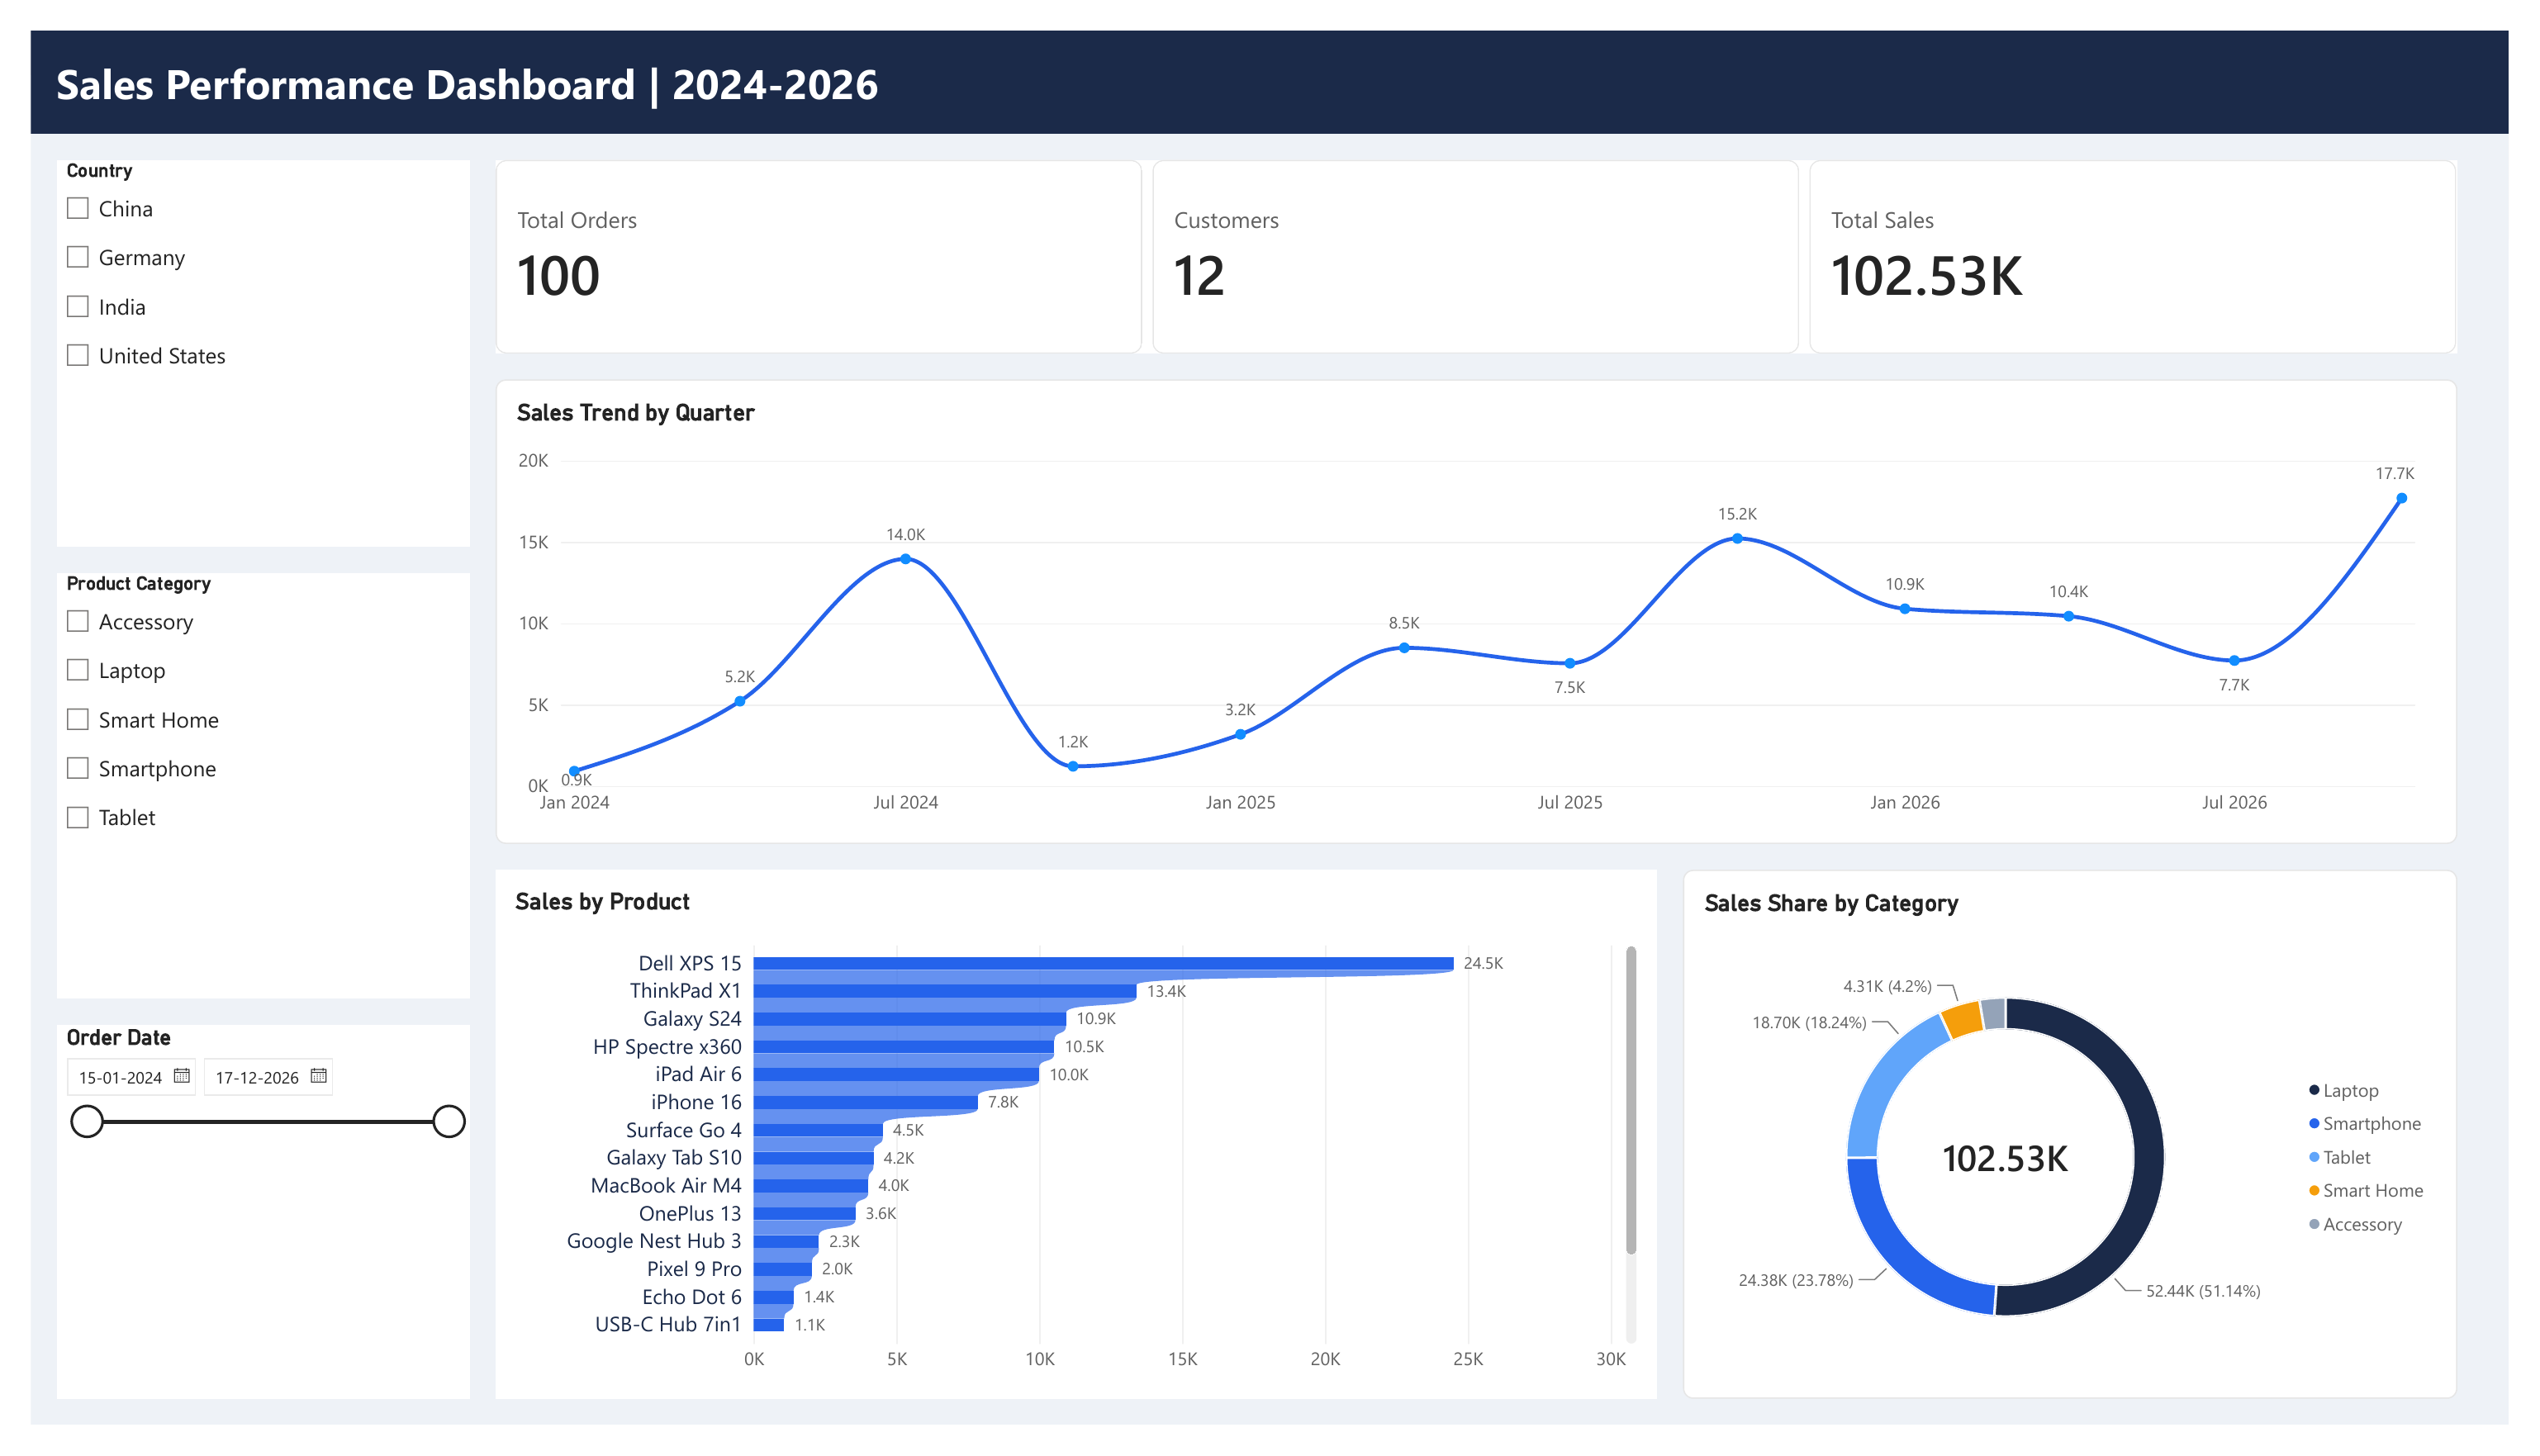

What the dashboard file says about the page in this screenshot:
{"tool":"powerbi","page":{"name":"Page 1","canvas":[1920,1080],"ordinal":0},"visuals":[{"type":"barChart","title":"Sales by Product","fields":{"Category":["orders.product_name"],"Y":["Sum(orders.sales)"]},"box":[360,650,900,410],"z":0},{"type":"textbox","box":[0,0,1920,80],"z":1},{"type":"cardVisual","fields":{"Data":["CountNonNull(orders.order_id)","Count(orders.customer_id)","Sum(orders.sales)"]},"box":[360,100,1520,150],"z":2},{"type":"lineChart","title":"Sales Trend by Quarter","fields":{"Category":["orders.order_date.Variation.Date Hierarchy.Year","orders.order_date.Variation.Date Hierarchy.Quarter","orders.order_date.Variation.Date Hierarchy.Month"],"Y":["Sum(orders.sales)"]},"box":[360,270,1520,360],"z":3},{"type":"donutChart","title":"Sales Share by Category","fields":{"Category":["orders.product_category"],"Y":["Sum(orders.sales)"]},"box":[1280,650,600,410],"z":4},{"type":"slicer","fields":{"Values":["customers.country"]},"box":[20,100,320,300],"z":5},{"type":"slicer","fields":{"Values":["orders.order_date"]},"box":[20,770,320,290],"z":6},{"type":"slicer","fields":{"Values":["orders.product_category"]},"box":[20,420,320,330],"z":7}]}

Visuals, with their boxes on the page's 1920x1080 design canvas (x1, y1, x2, y2). These are canvas units, not pixel positions in the 2540x1456 screenshot, which may show the page scaled, cropped or inside an application window:
"Sales by Product" barChart: 360 650 1260 1060
textbox: 0 0 1920 80
cardVisual - CountNonNull(orders.order_id) x Count(orders.customer_id): 360 100 1880 250
"Sales Trend by Quarter" lineChart: 360 270 1880 630
"Sales Share by Category" donutChart: 1280 650 1880 1060
slicer - customers.country: 20 100 340 400
slicer - orders.order_date: 20 770 340 1060
slicer - orders.product_category: 20 420 340 750
